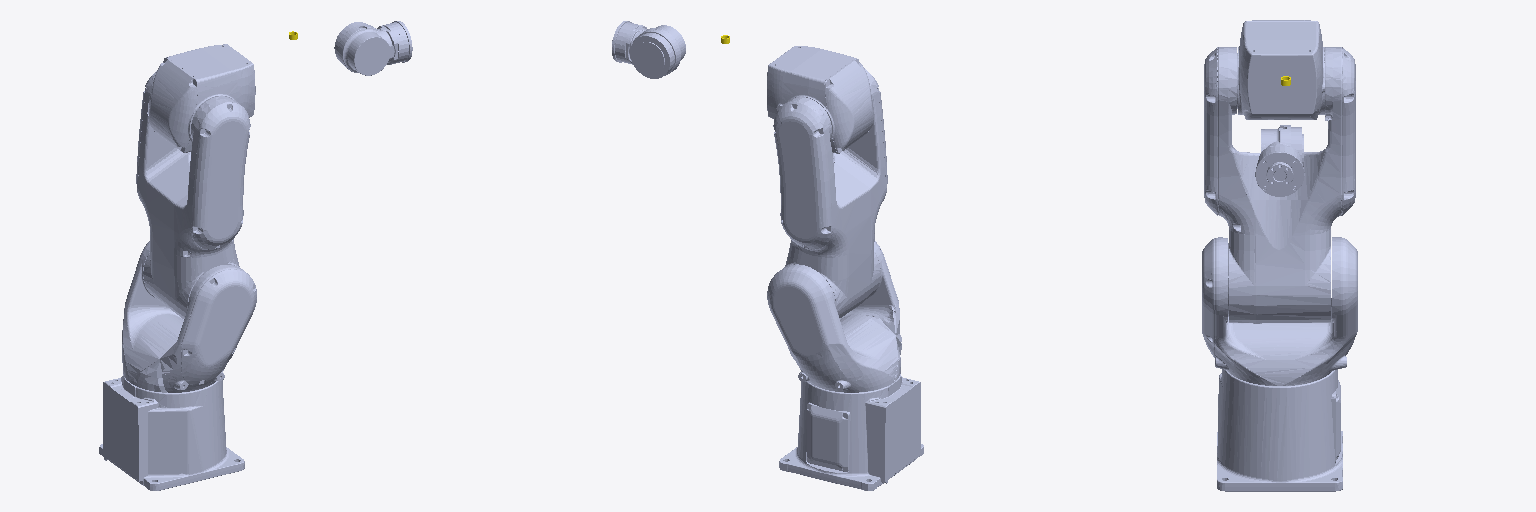
The robot description file, URDF, robot "Fanuc - LR Mate-200iD_V1":
<?xml version="1.0" encoding="utf-8"?>
<!-- This URDF was automatically created by SolidWorks to URDF Exporter! Originally created by [author] ([email redacted]) 
     Commit Version: 1.5.1-0-g916b5db  Build Version: 1.5.7152.31018
     For more information, please see http://wiki.ros.org/sw_urdf_exporter -->
<robot
  name="Fanuc - LR Mate-200iD_V1">
  <link
    name="base">
    <inertial>
      <origin
        xyz="-0.0068268 -0.00032168 0.080423"
        rpy="0 0 0" />
      <mass
        value="4.8533" />
      <inertia
        ixx="0.021987"
        ixy="-0.0001185"
        ixz="0.00014303"
        iyy="0.023829"
        iyz="-3.0601E-05"
        izz="0.022801" />
    </inertial>
    <visual>
      <origin
        xyz="0 0 0"
        rpy="0 0 0" />
      <geometry>
        <mesh
          filename="package://Fanuc - LR Mate-200iD_V1/meshes/base.STL" />
      </geometry>
      <material
        name="">
        <color
          rgba="0.79216 0.81961 0.93333 1" />
      </material>
    </visual>
    <collision>
      <origin
        xyz="0 0 0"
        rpy="0 0 0" />
      <geometry>
        <mesh
          filename="package://Fanuc - LR Mate-200iD_V1/meshes/base.STL" />
      </geometry>
    </collision>
  </link>
  <link
    name="Link 1">
    <inertial>
      <origin
        xyz="0.039517 -0.00071478 0.32695"
        rpy="0 0 0" />
      <mass
        value="14.063" />
      <inertia
        ixx="0.85884"
        ixy="-0.00061675"
        ixz="-0.13276"
        iyy="0.91316"
        iyz="-0.0011091"
        izz="0.13315" />
    </inertial>
    <visual>
      <origin
        xyz="0 0 0"
        rpy="0 0 0" />
      <geometry>
        <mesh
          filename="package://Fanuc - LR Mate-200iD_V1/meshes/Link 1.STL" />
      </geometry>
      <material
        name="">
        <color
          rgba="0.79216 0.81961 0.93333 1" />
      </material>
    </visual>
    <collision>
      <origin
        xyz="0 0 0"
        rpy="0 0 0" />
      <geometry>
        <mesh
          filename="package://Fanuc - LR Mate-200iD_V1/meshes/Link 1.STL" />
      </geometry>
    </collision>
  </link>
  <joint
    name="joint 1"
    type="revolute">
    <origin
      xyz="0 0 0.042741"
      rpy="0 0 0" />
    <parent
      link="base" />
    <child
      link="Link 1" />
    <axis
      xyz="0 0 1" />
    <limit
      lower="-3.14"
      upper="3.14"
      effort="15"
      velocity="6" />
  </joint>
  <link
    name="Link 2">
    <inertial>
      <origin
        xyz="-0.007993 -0.0018012 0.12126"
        rpy="0 0 0" />
      <mass
        value="6.3616" />
      <inertia
        ixx="0.10665"
        ixy="8.068E-05"
        ixz="0.0014511"
        iyy="0.087068"
        iyz="-0.00055746"
        izz="0.031702" />
    </inertial>
    <visual>
      <origin
        xyz="0 0 0"
        rpy="0 0 0" />
      <geometry>
        <mesh
          filename="package://Fanuc - LR Mate-200iD_V1/meshes/Link 2.STL" />
      </geometry>
      <material
        name="">
        <color
          rgba="0.79216 0.81961 0.93333 1" />
      </material>
    </visual>
    <collision>
      <origin
        xyz="0 0 0"
        rpy="0 0 0" />
      <geometry>
        <mesh
          filename="package://Fanuc - LR Mate-200iD_V1/meshes/Link 2.STL" />
      </geometry>
    </collision>
  </link>
  <joint
    name="Joint 2"
    type="revolute">
    <origin
      xyz="0.05 0 0.28726"
      rpy="0 0 0" />
    <parent
      link="Link 1" />
    <child
      link="Link 2" />
    <axis
      xyz="0 1 0" />
    <limit
      lower="-2.5307"
      upper="1.7453"
      effort="20"
      velocity="8" />
  </joint>
  <link
    name="Link 3">
    <inertial>
      <origin
        xyz="0.0082367 0.00068032 0.017646"
        rpy="0 0 0" />
      <mass
        value="2.3943" />
      <inertia
        ixx="0.0063347"
        ixy="-4.9524E-05"
        ixz="-0.00076133"
        iyy="0.007328"
        iyz="-6.6489E-05"
        izz="0.0072604" />
    </inertial>
    <visual>
      <origin
        xyz="0 0 0"
        rpy="0 0 0" />
      <geometry>
        <mesh
          filename="package://Fanuc - LR Mate-200iD_V1/meshes/Link 3.STL" />
      </geometry>
      <material
        name="">
        <color
          rgba="0.79216 0.81961 0.93333 1" />
      </material>
    </visual>
    <collision>
      <origin
        xyz="0 0 0"
        rpy="0 0 0" />
      <geometry>
        <mesh
          filename="package://Fanuc - LR Mate-200iD_V1/meshes/Link 3.STL" />
      </geometry>
    </collision>
  </link>
  <joint
    name="Joint 3"
    type="revolute">
    <origin
      xyz="0 0 0.33"
      rpy="0 0 0" />
    <parent
      link="Link 2" />
    <child
      link="Link 3" />
    <axis
      xyz="0 1 0" />
    <limit
      lower="-1.2217"
      upper="3.5779"
      effort="15"
      velocity="9.7" />
  </joint>
  <link
    name="Link 4">
    <inertial>
      <origin
        xyz="0.1089 0.0089142 0.05615"
        rpy="0 0 0" />
      <mass
        value="0.00082621" />
      <inertia
        ixx="2.6567E-08"
        ixy="-1.0653E-19"
        ixz="-3.9397E-25"
        iyy="2.7105E-08"
        iyz="2.9753E-24"
        izz="4.1244E-08" />
    </inertial>
    <visual>
      <origin
        xyz="0 0 0"
        rpy="0 0 0" />
      <geometry>
        <mesh
          filename="package://Fanuc - LR Mate-200iD_V1/meshes/Link 4.STL" />
      </geometry>
      <material
        name="">
        <color
          rgba="1 0.93333 0.13333 1" />
      </material>
    </visual>
    <collision>
      <origin
        xyz="0 0 0"
        rpy="0 0 0" />
      <geometry>
        <mesh
          filename="package://Fanuc - LR Mate-200iD_V1/meshes/Link 4.STL" />
      </geometry>
    </collision>
  </link>
  <joint
    name="Joint 4"
    type="revolute">
    <origin
      xyz="0.0880013108830273 0 0.0350266000000001"
      rpy="0 0 0" />
    <parent
      link="Link 3" />
    <child
      link="Link 4" />
    <axis
      xyz="1 0 0" />
    <limit
      lower="-3.3"
      upper="3.3"
      effort="8.86"
      velocity="9.77" />
  </joint>
  <link
    name="Link 5">
    <inertial>
      <origin
        xyz="0.017472 0.0029843 -6.4134E-05"
        rpy="0 0 0" />
      <mass
        value="0.44624" />
      <inertia
        ixx="0.00029866"
        ixy="2.7659E-05"
        ixz="4.1796E-08"
        iyy="0.0005998"
        iyz="1.4464E-09"
        izz="0.0005763" />
    </inertial>
    <visual>
      <origin
        xyz="0 0 0"
        rpy="0 0 0" />
      <geometry>
        <mesh
          filename="package://Fanuc - LR Mate-200iD_V1/meshes/Link 5.STL" />
      </geometry>
      <material
        name="">
        <color
          rgba="0.79216 0.81961 0.93333 1" />
      </material>
    </visual>
    <collision>
      <origin
        xyz="0 0 0"
        rpy="0 0 0" />
      <geometry>
        <mesh
          filename="package://Fanuc - LR Mate-200iD_V1/meshes/Link 5.STL" />
      </geometry>
    </collision>
  </link>
  <joint
    name="Joint 5"
    type="revolute">
    <origin
      xyz="0.2454 0 0"
      rpy="0 0 0" />
    <parent
      link="Link 4" />
    <child
      link="Link 5" />
    <axis
      xyz="0 1 0" />
    <limit
      lower="-2.1817"
      upper="2.1817"
      effort="8.86"
      velocity="9.77" />
  </joint>
  <link
    name="link 6">
    <inertial>
      <origin
        xyz="4.9958E-09 -2.493E-08 0.0024231"
        rpy="0 0 0" />
      <mass
        value="0.0067922" />
      <inertia
        ixx="3.6282E-06"
        ixy="3.7711E-10"
        ixz="-5.7457E-14"
        iyy="3.6291E-06"
        iyz="2.4848E-13"
        izz="7.177E-06" />
    </inertial>
    <visual>
      <origin
        xyz="0 0 0"
        rpy="0 0 0" />
      <geometry>
        <mesh
          filename="package://Fanuc - LR Mate-200iD_V1/meshes/link 6.STL" />
      </geometry>
      <material
        name="">
        <color
          rgba="0.79216 0.81961 0.93333 1" />
      </material>
    </visual>
    <collision>
      <origin
        xyz="0 0 0"
        rpy="0 0 0" />
      <geometry>
        <mesh
          filename="package://Fanuc - LR Mate-200iD_V1/meshes/link 6.STL" />
      </geometry>
    </collision>
  </link>
  <joint
    name="Joint 6"
    type="revolute">
    <origin
      xyz="0.0755 0 0"
      rpy="3.1416 1.5708 0" />
    <parent
      link="Link 5" />
    <child
      link="link 6" />
    <axis
      xyz="0 0 -1" />
    <limit
      lower="-6.28"
      upper="6.28"
      effort="4.9"
      velocity="15.7" />
  </joint>
</robot>

--- What the picture shows (computed from the rendered views, not written in the file) ---
Views: 3 orthographic renders of the robot side by side, from view 1: azimuth 30°, elevation 25°; view 2: azimuth 150°, elevation 25°; view 3: azimuth 270°, elevation 25°.
Robot: Fanuc - LR Mate-200iD_V1 — 7 links, 6 joints (6 revolute); root link base; default pose: every joint at zero.
Visible links, largest first — view 1: Link 2, Link 1, base, Link 3, Link 5; view 2: Link 2, Link 1, base, Link 3, Link 5; view 3: Link 2, base, Link 1, Link 3, Link 5, link 6.
Boxes of the visible links, x1,y1,x2,y2 form: Link 2: (136, 71, 250, 318); Link 1: (122, 241, 256, 392); base: (99, 374, 244, 490); Link 3: (149, 44, 255, 152); Link 5: (334, 22, 408, 75); Link 2: (773, 68, 887, 317); Link 1: (767, 241, 901, 392); base: (779, 374, 923, 490); Link 3: (767, 46, 873, 153); Link 5: (615, 22, 685, 78); Link 2: (1204, 47, 1355, 323); base: (1217, 369, 1342, 491); Link 1: (1202, 237, 1357, 385); Link 3: (1237, 20, 1324, 119); Link 5: (1257, 125, 1303, 187); link 6: (1255, 151, 1304, 196).
Size in the robot's own frame: 0.5664 by 0.235 by 0.7559 metres.
Meshes: 7 distinct files referenced, 7 mesh visuals loaded (7 binary STL).